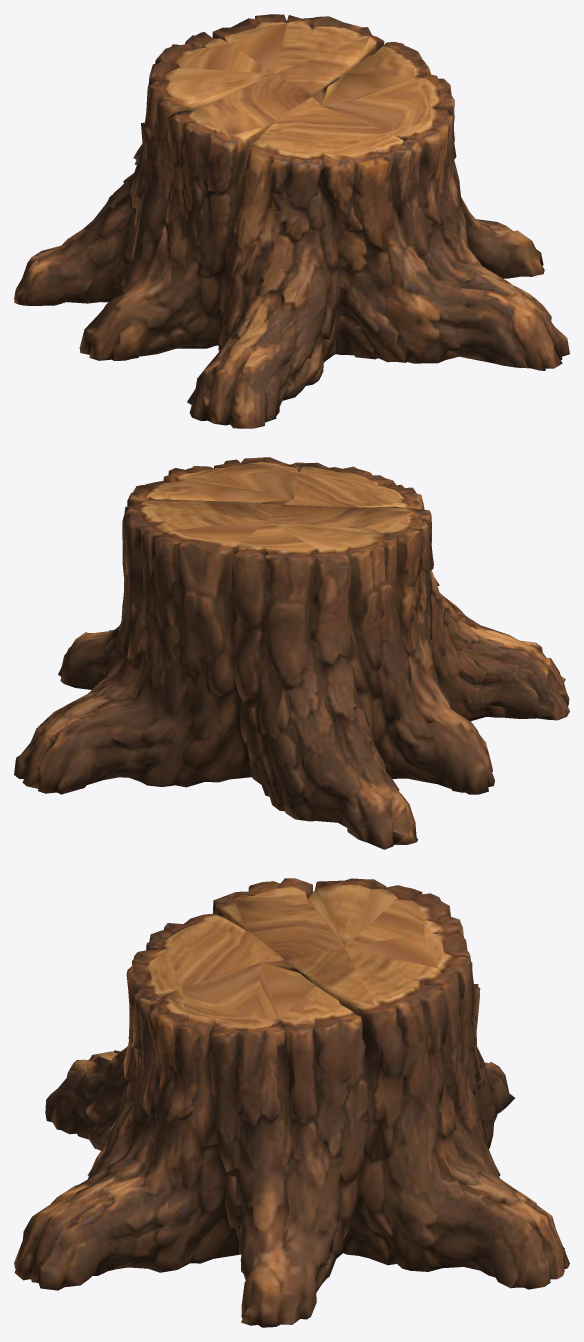
File: stump-01.glb
3 views of the same model, one above another, from view 1: azimuth 30°, elevation 25°; view 2: azimuth 150°, elevation 25°; view 3: azimuth 270°, elevation 25° (orthographic). The views are drawn at different scales.
Visible parts, largest first — view 1: nebeljagd-tripo-stump-01; view 2: nebeljagd-tripo-stump-01; view 3: nebeljagd-tripo-stump-01.
Boxes of the visible parts, <box> form: nebeljagd-tripo-stump-01: <box>14,14,569,428</box>; nebeljagd-tripo-stump-01: <box>14,457,569,849</box>; nebeljagd-tripo-stump-01: <box>14,878,569,1327</box>.
Bounding box in the file's own units: 1.57 × 0.7992 × 1.52.
1 material, 1 textured.
